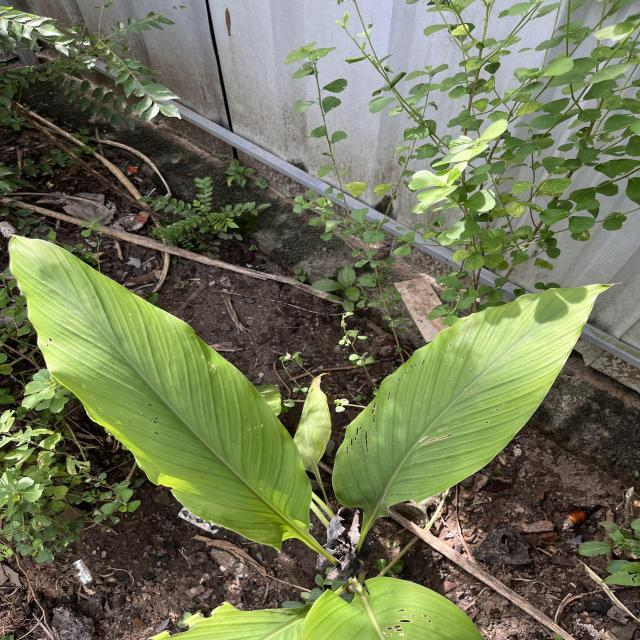Curcuma longa: (1, 225, 322, 558), (327, 277, 630, 528)
